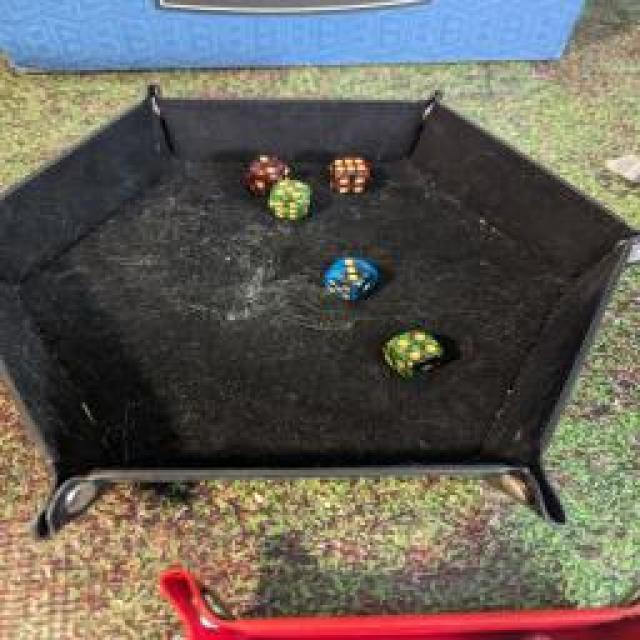dice_2: (248, 148, 292, 194)
dice_3: (319, 252, 379, 302)
dice_4: (380, 326, 448, 376)
dice_5: (265, 174, 320, 218)
dice_6: (325, 154, 375, 198)
